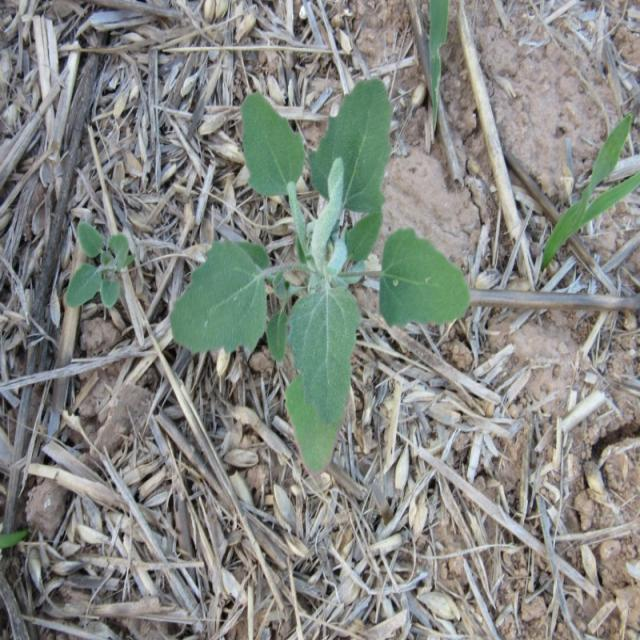ca: (172, 75, 469, 475)
